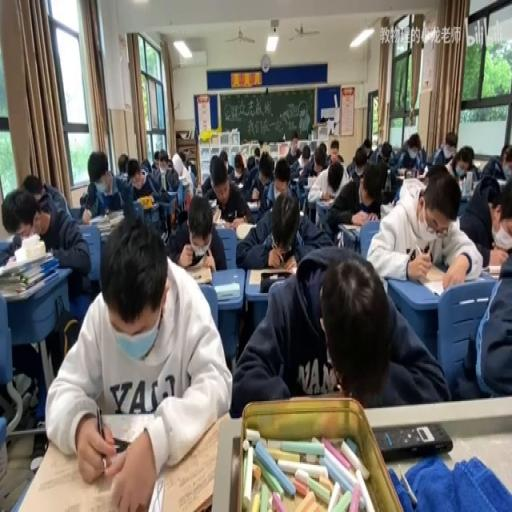calculator: (76, 210, 136, 269), (420, 267, 470, 296), (246, 267, 292, 286), (183, 266, 213, 286), (214, 282, 240, 300), (293, 181, 309, 209), (235, 222, 256, 240), (481, 263, 503, 279), (397, 169, 422, 181), (380, 200, 394, 218), (136, 194, 153, 208), (338, 222, 360, 232), (316, 195, 336, 206), (211, 205, 222, 222), (88, 214, 104, 224), (496, 176, 507, 188), (305, 176, 315, 188), (246, 201, 260, 209), (208, 196, 218, 206), (177, 175, 189, 183), (231, 181, 243, 189), (290, 174, 299, 184)
paper: (46, 206, 230, 509), (230, 244, 440, 414), (367, 164, 482, 290), (4, 174, 90, 298), (448, 253, 512, 403), (236, 186, 326, 269), (326, 158, 386, 240), (201, 155, 252, 228), (130, 154, 174, 232), (81, 150, 129, 218), (482, 172, 512, 269), (246, 154, 276, 213), (297, 141, 328, 183), (394, 131, 426, 171), (441, 144, 472, 182), (481, 142, 510, 182), (346, 138, 372, 175), (22, 173, 46, 202), (162, 159, 179, 191), (285, 132, 301, 164), (2, 213, 21, 239), (327, 162, 343, 192), (274, 161, 290, 189), (127, 164, 141, 186), (380, 140, 392, 164), (187, 162, 197, 184), (118, 154, 128, 175), (444, 134, 457, 150), (234, 158, 244, 178), (259, 168, 272, 183), (140, 158, 150, 176), (152, 148, 161, 166), (219, 148, 228, 165), (260, 141, 270, 156), (253, 145, 260, 166), (384, 169, 390, 192), (178, 151, 186, 166), (246, 155, 254, 169), (301, 154, 308, 165), (158, 162, 166, 171), (336, 152, 343, 161), (166, 158, 172, 168), (367, 149, 373, 158)
person: (374, 422, 452, 462), (109, 437, 129, 452)
